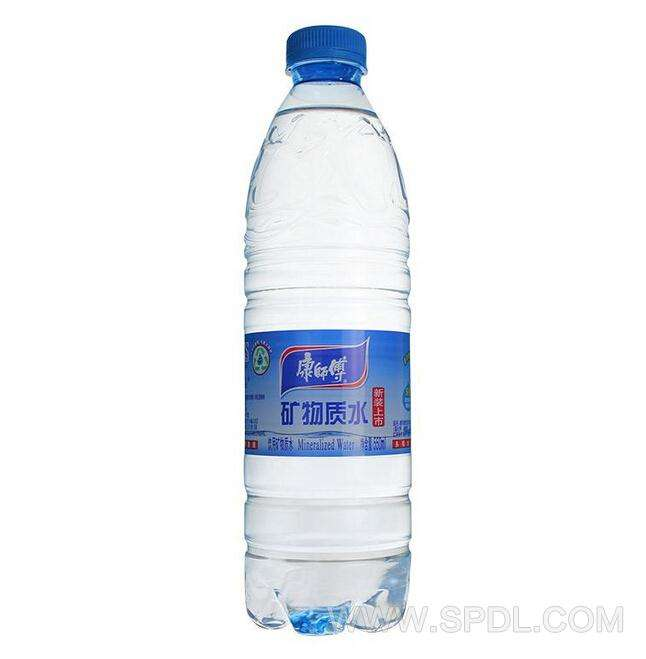amwater: (207, 9, 457, 636)
